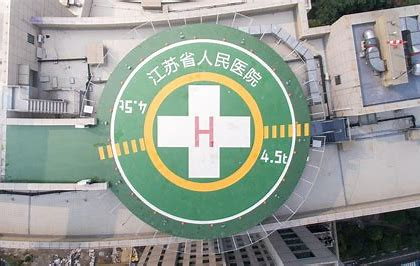H: (195, 117, 214, 147)
